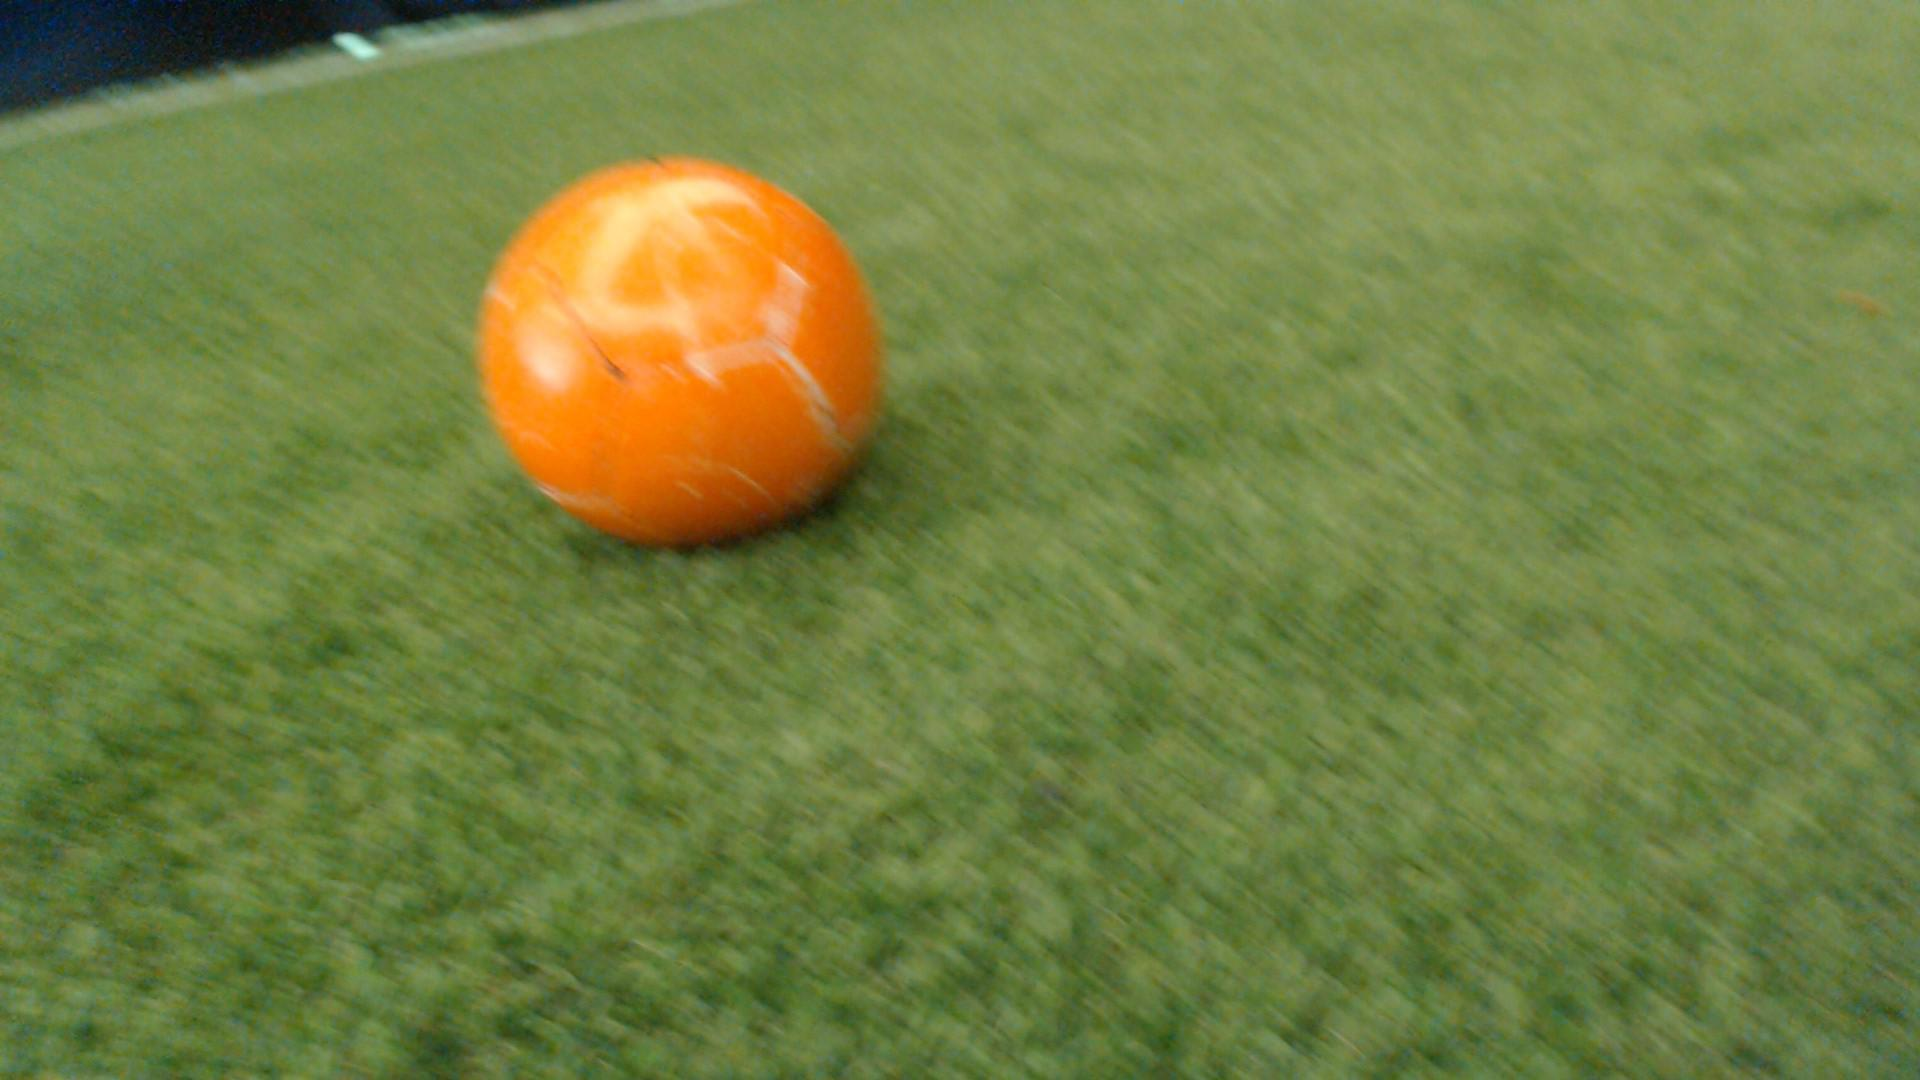bola: (458, 142, 914, 549)
